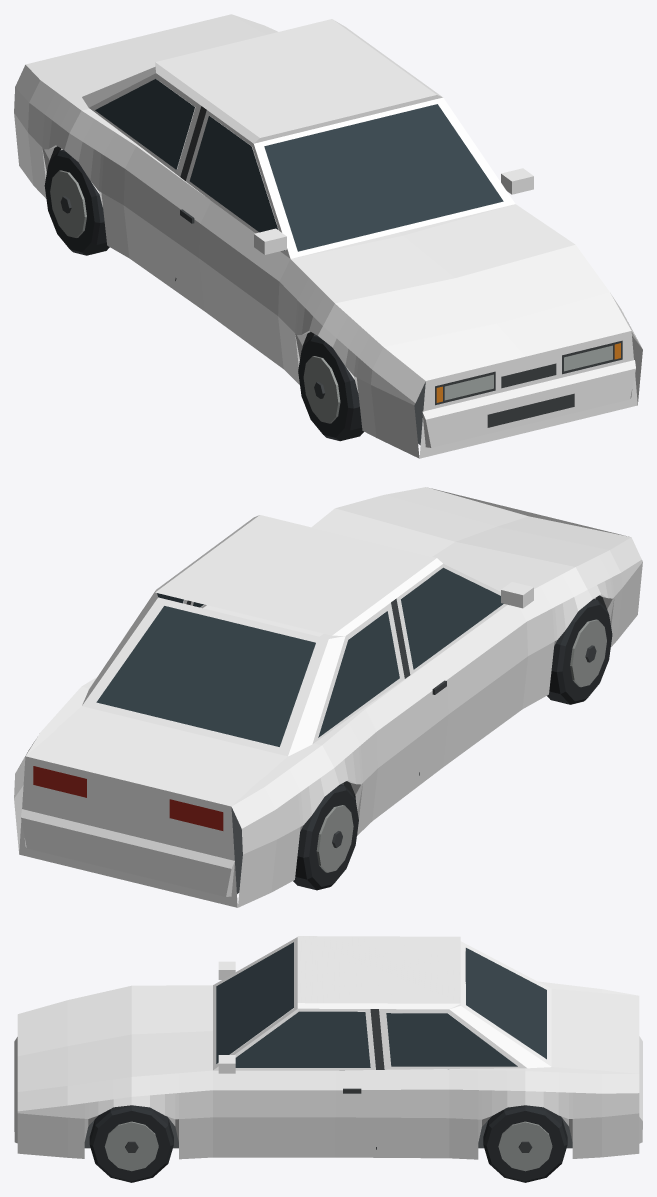
The model's file is vallon_faucon.glb.
3 views of the same model, one above another, from view 1: azimuth 30°, elevation 25°; view 2: azimuth 150°, elevation 25°; view 3: azimuth 270°, elevation 25° (orthographic). The views are drawn at different scales.
Visible parts, largest first — view 1: vallon_faucon; view 2: vallon_faucon; view 3: vallon_faucon.
Part boxes in pixels (left/top/right/bottom): vallon_faucon: left=14, top=14, right=642, bottom=458; vallon_faucon: left=14, top=487, right=642, bottom=907; vallon_faucon: left=14, top=936, right=642, bottom=1182.
Size of the model in its own units: 1.74 by 1.28 by 4.44.
Materials: 8 (1 with a texture image).
